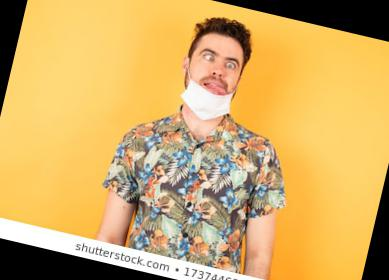mask_weared_incorrect: (179, 36, 248, 121)
